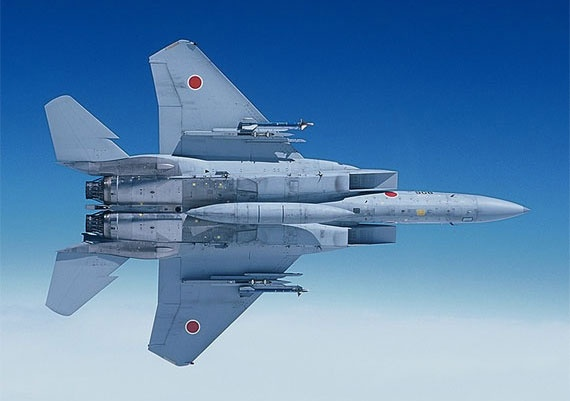airplane: (31, 39, 534, 366)
